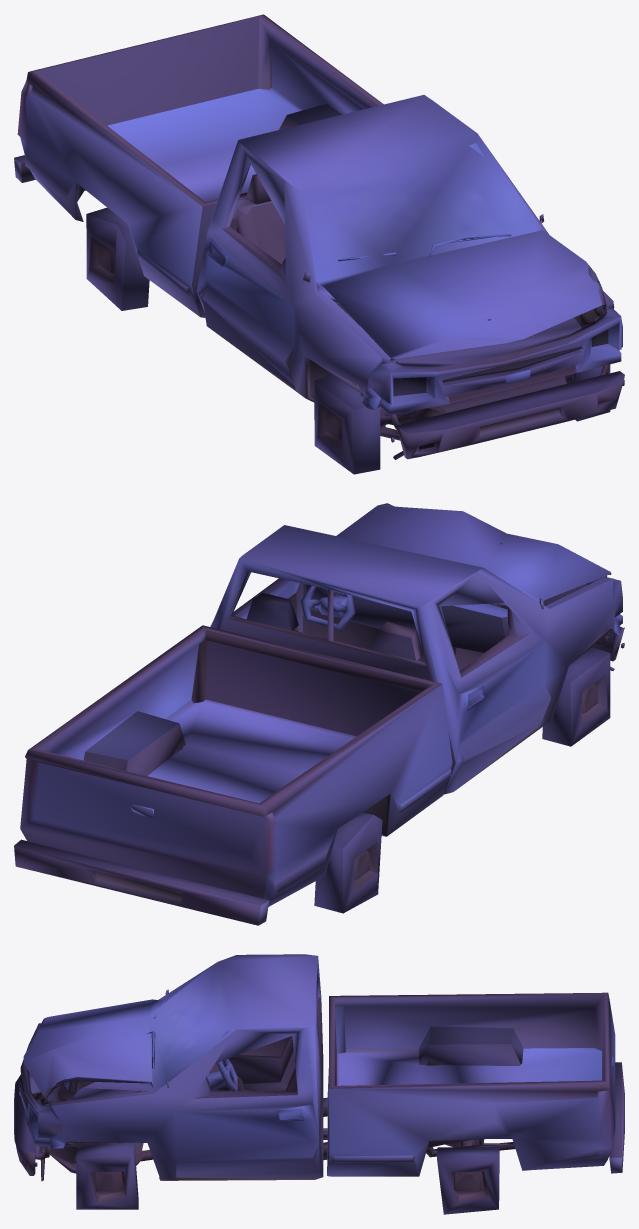
File: model.progressive.glb
The picture shows the model from 3 angles, top to bottom: view 1: azimuth 30°, elevation 25°; view 2: azimuth 150°, elevation 25°; view 3: azimuth 270°, elevation 25°; orthographic projection. The views are drawn at different scales.
Visible parts, largest first — view 1: BrokenRustyPickupTruck2; view 2: BrokenRustyPickupTruck2; view 3: BrokenRustyPickupTruck2.
Boxes of the visible parts, bbox=[...] form: BrokenRustyPickupTruck2: bbox=[14, 14, 624, 474]; BrokenRustyPickupTruck2: bbox=[14, 503, 624, 925]; BrokenRustyPickupTruck2: bbox=[14, 954, 624, 1214].
Size of the model in its own units: 0.7537 by 0.6074 by 1.9.
Materials: 1 (1 with a texture image).
